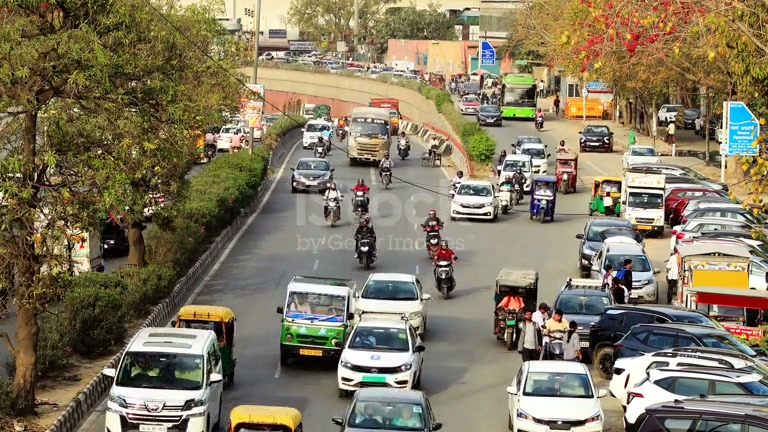bus: (671, 237, 768, 326), (171, 303, 238, 386), (500, 74, 537, 121)
car: (104, 325, 225, 432), (605, 325, 767, 400), (587, 304, 731, 373), (618, 361, 768, 426), (605, 323, 766, 379), (505, 360, 606, 432), (335, 318, 426, 397), (350, 271, 431, 339), (331, 387, 443, 431), (591, 238, 659, 304), (631, 400, 768, 430), (576, 217, 641, 274), (551, 282, 616, 335), (227, 404, 304, 432), (450, 180, 500, 222), (290, 158, 333, 193), (302, 120, 334, 154), (579, 124, 614, 152), (477, 105, 503, 126)
motorcycle: (529, 175, 557, 223), (433, 261, 456, 299), (355, 233, 378, 270), (378, 160, 394, 188), (399, 136, 411, 159)
pedestrian: (517, 310, 543, 363), (431, 240, 457, 283), (617, 257, 636, 296), (354, 215, 377, 245), (609, 277, 629, 305)
truck: (278, 274, 354, 368), (346, 106, 392, 165), (500, 74, 537, 121)
